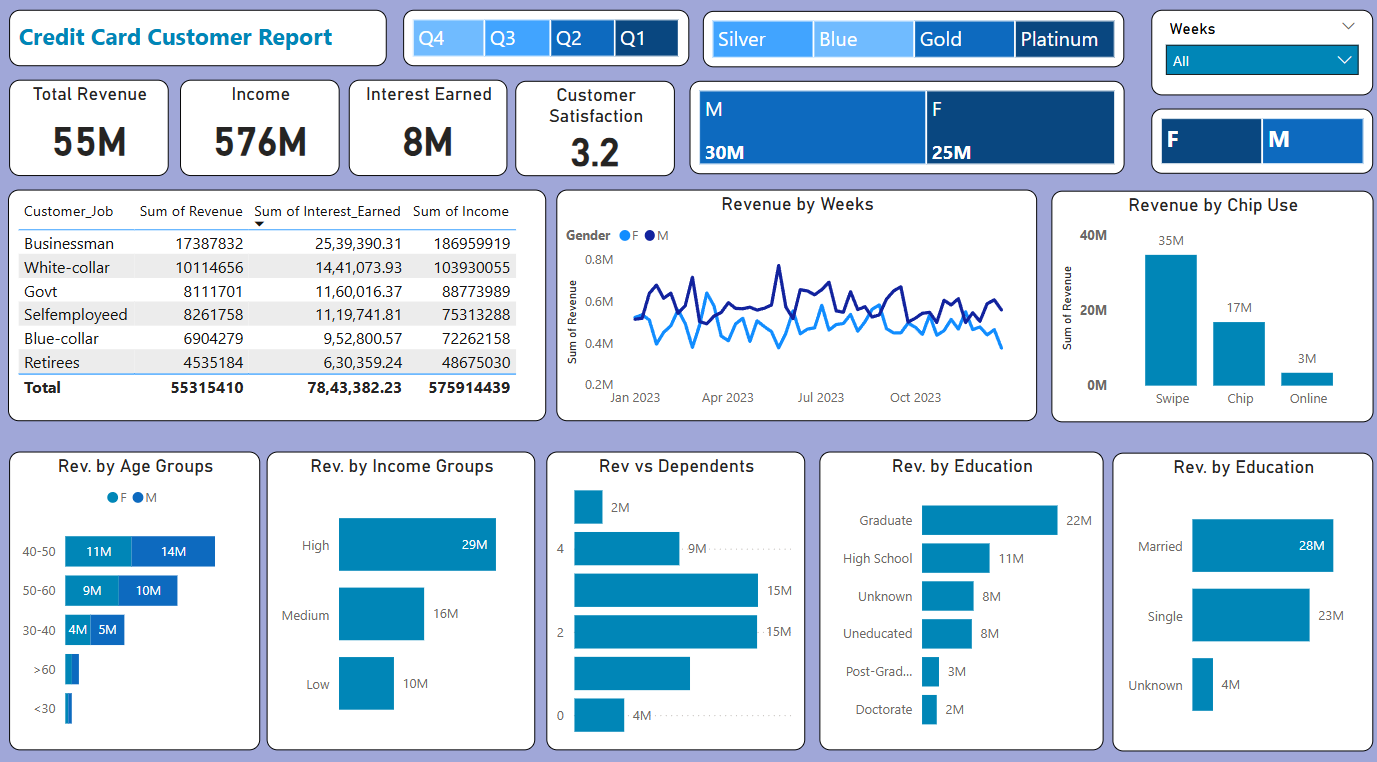

What the dashboard file says about the page in this screenshot:
{"tool":"powerbi","page":{"name":"Customer  Report","canvas":[1280,720],"ordinal":1},"visuals":[{"type":"textbox","box":[10.3,16.4,349.3,52.4],"z":0},{"type":"barChart","title":"Rev. by Income Groups","fields":{"Y":["Sum(credit_card.Revenue)"],"Category":["customer.SalaryGroup"]},"box":[248.6,425.4,248.6,276.4],"z":1000},{"type":"columnChart","title":"Revenue by Chip Use","fields":{"Category":["credit_card.Use Chip"],"Y":["Sum(credit_card.Revenue)"]},"box":[975,183.9,298,214.7],"z":2000},{"type":"tableEx","fields":{"Values":["customer.Customer_Job","Sum(credit_card.Revenue)","Sum(credit_card.Interest_Earned)","Sum(customer.Income)"]},"box":[9.2,182.9,498.3,214.7],"z":3000},{"type":"card","title":"Total Revenue","fields":{"Values":["Sum(credit_card.Revenue)"]},"box":[10.3,81.2,148,89.4],"z":4000},{"type":"card","title":"Income","fields":{"Values":["Sum(customer.Income)"]},"box":[168.5,81.2,148,89.4],"z":5000},{"type":"card","title":"Customer Satisfaction","fields":{"Values":["Avg(customer.Cust_Satisfaction_Score)"]},"box":[478.8,82.2,148,88.4],"z":6000},{"type":"card","title":"Interest Earned","fields":{"Values":["Sum(credit_card.Interest_Earned)"]},"box":[324.7,81.2,146.9,89.4],"z":7000},{"type":"slicer","fields":{"Values":["credit_card.Week_Start_Date"]},"box":[1067.5,16.4,205.5,79.1],"z":8000},{"type":"treemap","fields":{"Group":["credit_card.Qtr"],"Values":["Avg(customer.Client_Num)"]},"box":[375,16.4,265.1,52.4],"z":9000},{"type":"treemap","fields":{"Group":["customer.Gender"],"Values":["Avg(customer.Client_Num)"]},"box":[1067.5,107.9,205.5,60.6],"z":10000},{"type":"treemap","fields":{"Values":["Avg(customer.Client_Num)"],"Group":["credit_card.Card_Category"]},"box":[652.4,17.5,390.4,52.4],"z":11000},{"type":"lineChart","title":"Revenue by Weeks","fields":{"Y":["Sum(credit_card.Revenue)"],"Series":["customer.Gender"],"Category":["credit_card.Week_Start_Date.Variation.Date Hierarchy.Year","credit_card.Week_Start_Date.Variation.Date Hierarchy.Month","credit_card.Week_Start_Date.Variation.Date Hierarchy.Day"]},"box":[516.8,182.9,444.9,214.7],"z":13000},{"type":"treemap","fields":{"Group":["customer.Gender"],"Values":["Sum(credit_card.Revenue)"]},"box":[640.1,82.2,402.8,86.3],"z":14000},{"type":"barChart","title":"Rev. by Age Groups","fields":{"Y":["Sum(credit_card.Revenue)"],"Category":["customer.Age_Group"],"Series":["customer.Gender"]},"box":[10.3,425.4,232.2,276.4],"z":15000},{"type":"barChart","title":"Rev vs Dependents","fields":{"Y":["Sum(credit_card.Revenue)"],"Category":["customer.Dependent_Count"]},"box":[507.6,425.4,239.4,276.4],"z":16000},{"type":"barChart","title":"Rev. by Education","fields":{"Y":["Sum(credit_card.Revenue)"],"Category":["customer.Education_Level"]},"box":[760.3,425.4,263,276.4],"z":17000},{"type":"barChart","title":"Rev. by Education","fields":{"Y":["Sum(credit_card.Revenue)"],"Category":["customer.Marital_Status"]},"box":[1031.6,426.4,241.5,276.4],"z":17001}]}

Visuals, with their boxes in screenshot pixels (x1, y1, x2, y2), scaled from the page's 1280x720 canvas onto the 1377x762 screenshot:
textbox: (x1=11, y1=17, x2=387, y2=73)
"Rev. by Income Groups" barChart: (x1=267, y1=450, x2=535, y2=743)
"Revenue by Chip Use" columnChart: (x1=1049, y1=195, x2=1369, y2=422)
tableEx - customer.Customer_Job x Sum(credit_card.Revenue): (x1=10, y1=194, x2=546, y2=421)
"Total Revenue" card: (x1=11, y1=86, x2=170, y2=181)
"Income" card: (x1=181, y1=86, x2=340, y2=181)
"Customer Satisfaction" card: (x1=515, y1=87, x2=674, y2=181)
"Interest Earned" card: (x1=349, y1=86, x2=507, y2=181)
slicer - credit_card.Week_Start_Date: (x1=1148, y1=17, x2=1369, y2=101)
treemap - credit_card.Qtr x Avg(customer.Client_Num): (x1=403, y1=17, x2=689, y2=73)
treemap - customer.Gender x Avg(customer.Client_Num): (x1=1148, y1=114, x2=1369, y2=178)
treemap - Avg(customer.Client_Num) x credit_card.Card_Category: (x1=702, y1=19, x2=1122, y2=74)
"Revenue by Weeks" lineChart: (x1=556, y1=194, x2=1035, y2=421)
treemap - customer.Gender x Sum(credit_card.Revenue): (x1=689, y1=87, x2=1122, y2=178)
"Rev. by Age Groups" barChart: (x1=11, y1=450, x2=261, y2=743)
"Rev vs Dependents" barChart: (x1=546, y1=450, x2=804, y2=743)
"Rev. by Education" barChart: (x1=818, y1=450, x2=1101, y2=743)
"Rev. by Education" barChart: (x1=1110, y1=451, x2=1370, y2=744)
